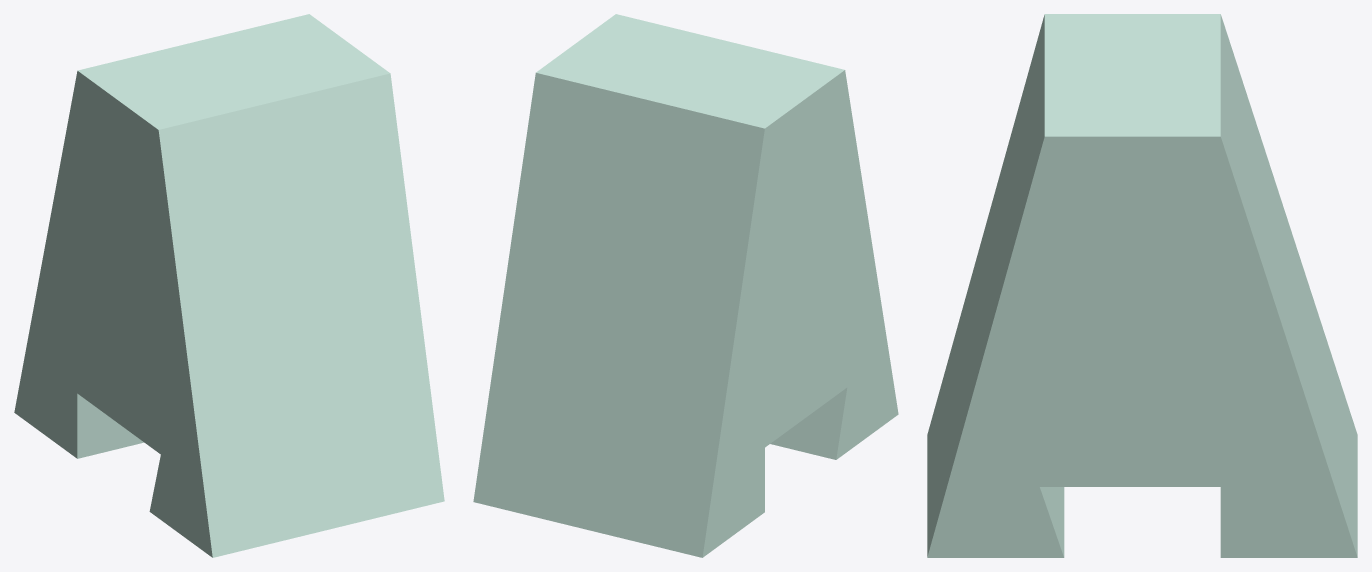
The picture shows the model from 3 angles, left to right: view 1: azimuth 30°, elevation 25°; view 2: azimuth 150°, elevation 25°; view 3: azimuth 270°, elevation 25°; orthographic projection. The views are drawn at different scales.
Parts seen in each view (by area): view 1: Renderer Node; view 2: Renderer Node; view 3: Renderer Node.
Part boxes in pixels (<box>): Renderer Node: <box>14,14,444,557</box>; Renderer Node: <box>473,14,898,557</box>; Renderer Node: <box>927,14,1357,557</box>.
Size of the model in its own units: 0.4688 by 0.75 by 0.6947.
